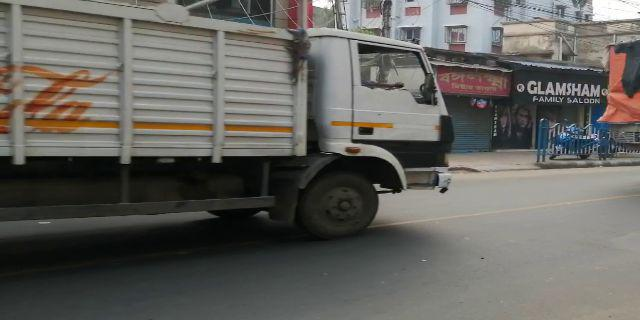Truck: (1, 1, 454, 250)
